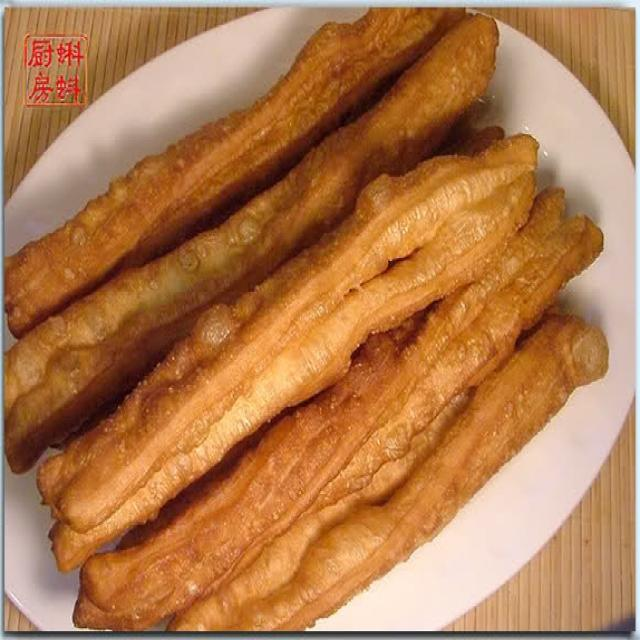炸货点心: (21, 24, 601, 620)
